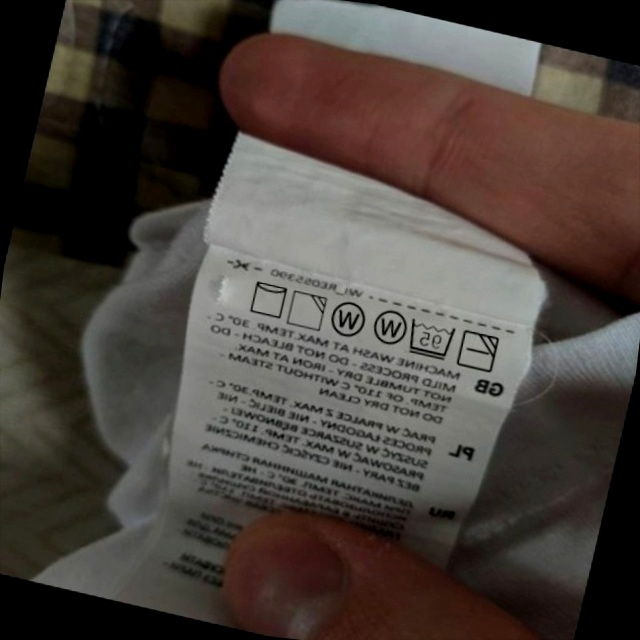95C: (402, 314, 459, 363)
dry_flat_in_shade: (454, 325, 503, 376)
line_dry: (244, 275, 292, 322)
shade_dry: (283, 286, 330, 334)
wet_clean: (325, 296, 370, 343), (367, 302, 411, 350)
